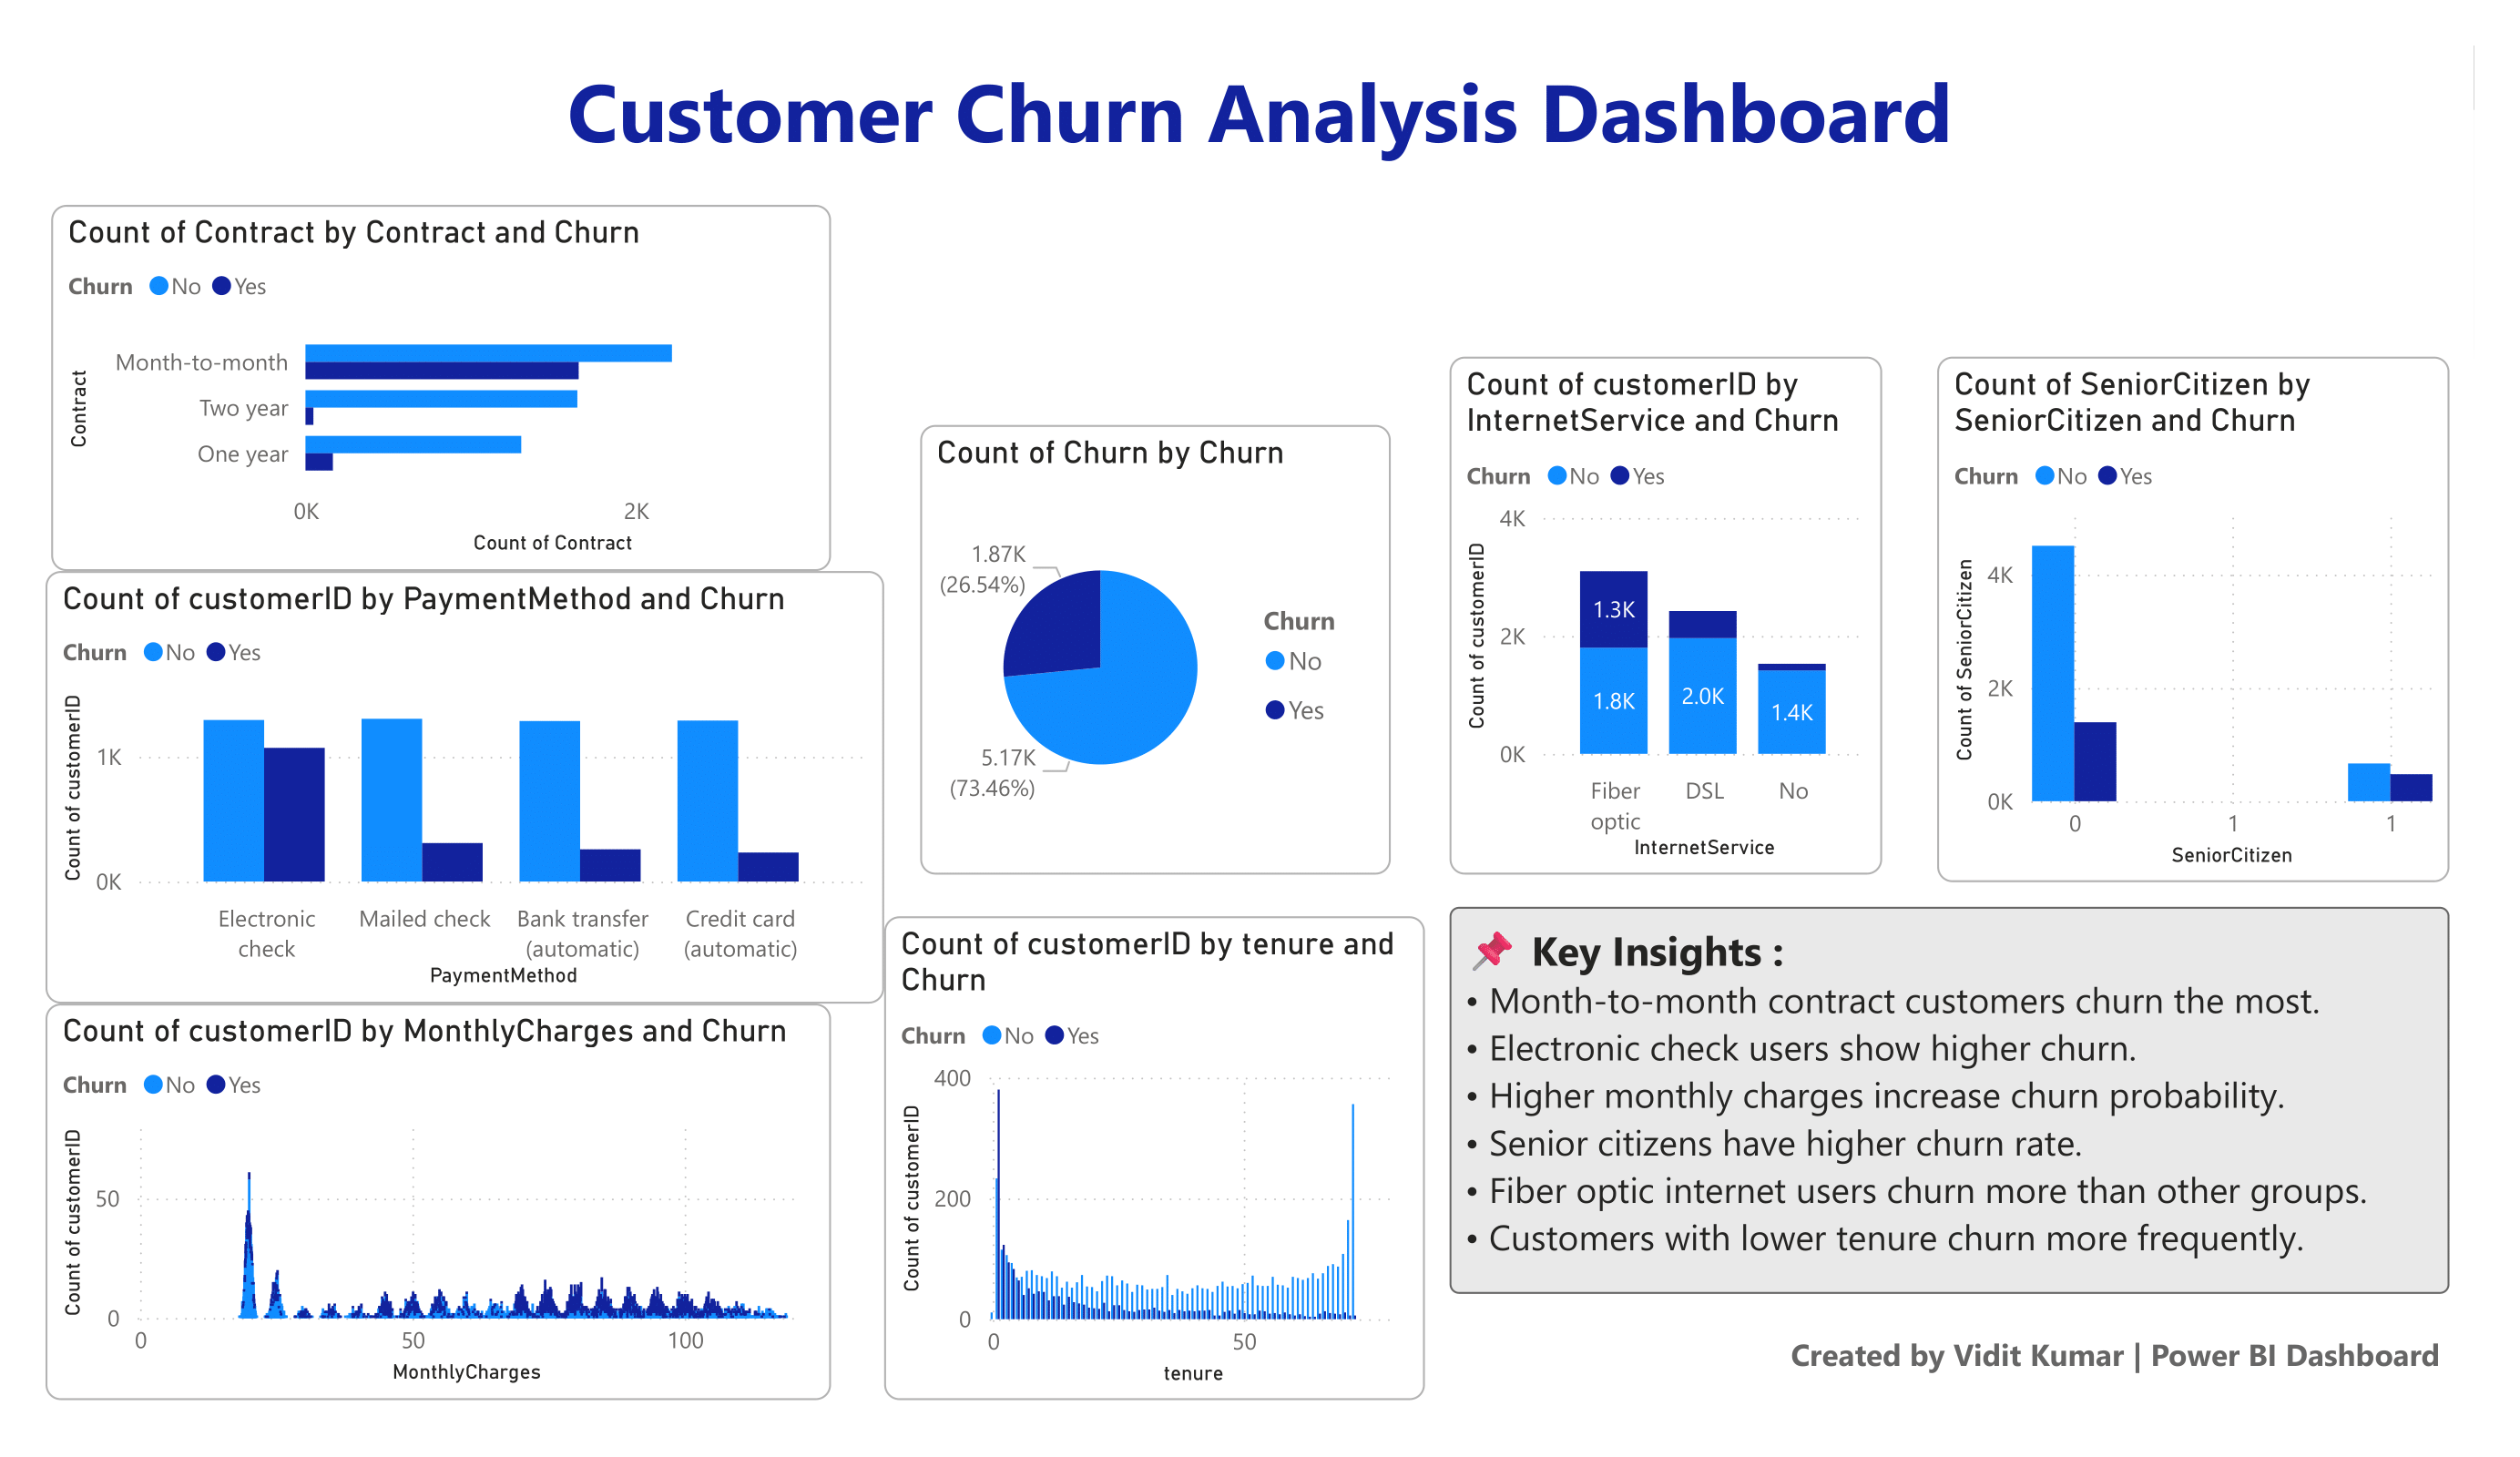

The page's visual inventory and layout, read from the dashboard file:
{"tool":"powerbi","page":{"name":"Page 1","canvas":[1280,720],"ordinal":0},"visuals":[{"type":"pieChart","fields":{"Category":["WA_Fn-UseC_-Telco-Customer-Churn.Churn"],"Y":["CountNonNull(WA_Fn-UseC_-Telco-Customer-Churn.Churn)"]},"box":[460.5,200.4,248.5,236.9],"z":0},{"type":"clusteredBarChart","fields":{"Y":["CountNonNull(WA_Fn-UseC_-Telco-Customer-Churn.Contract)"],"Category":["WA_Fn-UseC_-Telco-Customer-Churn.Contract"],"Series":["WA_Fn-UseC_-Telco-Customer-Churn.Churn"]},"box":[3.3,84.5,410.8,192.2],"z":1000},{"type":"columnChart","fields":{"Category":["WA_Fn-UseC_-Telco-Customer-Churn.MonthlyCharges"],"Y":["CountNonNull(WA_Fn-UseC_-Telco-Customer-Churn.customerID)"],"Series":["WA_Fn-UseC_-Telco-Customer-Churn.Churn"]},"box":[0,505.2,414.1,208.7],"z":2000},{"type":"clusteredColumnChart","fields":{"Category":["WA_Fn-UseC_-Telco-Customer-Churn.SeniorCitizen"],"Y":["CountNonNull(WA_Fn-UseC_-Telco-Customer-Churn.SeniorCitizen)"],"Series":["WA_Fn-UseC_-Telco-Customer-Churn.Churn"]},"box":[997.2,164,270,276.6],"z":3000},{"type":"columnChart","fields":{"Category":["WA_Fn-UseC_-Telco-Customer-Churn.InternetService"],"Y":["CountNonNull(WA_Fn-UseC_-Telco-Customer-Churn.customerID)"],"Series":["WA_Fn-UseC_-Telco-Customer-Churn.Churn"]},"box":[740,164,228,273],"z":4000},{"type":"clusteredColumnChart","fields":{"Category":["WA_Fn-UseC_-Telco-Customer-Churn.tenure"],"Y":["CountNonNull(WA_Fn-UseC_-Telco-Customer-Churn.customerID)"],"Series":["WA_Fn-UseC_-Telco-Customer-Churn.Churn"]},"box":[442.3,458.8,284.9,255.1],"z":4001},{"type":"clusteredColumnChart","fields":{"Category":["WA_Fn-UseC_-Telco-Customer-Churn.PaymentMethod"],"Y":["CountNonNull(WA_Fn-UseC_-Telco-Customer-Churn.customerID)"],"Series":["WA_Fn-UseC_-Telco-Customer-Churn.Churn"]},"box":[0,276.6,442.3,228.6],"z":4002},{"type":"textbox","box":[250.1,0,780.2,69.6],"z":4003},{"type":"textbox","box":[740.4,453.9,526.8,203.7],"z":4004},{"type":"textbox","box":[901.1,674.2,366.1,39.8],"z":4005}]}

Visuals, with their boxes in screenshot pixels (x1, y1, x2, y2):
pieChart - WA_Fn-UseC_-Telco-Customer-Churn.Churn x CountNonNull(WA_Fn-UseC_-Telco-Customer-Churn.Churn): l=919, t=426, r=1391, b=875
clusteredBarChart - CountNonNull(WA_Fn-UseC_-Telco-Customer-Churn.Contract) x WA_Fn-UseC_-Telco-Customer-Churn.Contract: l=52, t=206, r=831, b=570
columnChart - WA_Fn-UseC_-Telco-Customer-Churn.MonthlyCharges x CountNonNull(WA_Fn-UseC_-Telco-Customer-Churn.customerID): l=46, t=1004, r=831, b=1400
clusteredColumnChart - WA_Fn-UseC_-Telco-Customer-Churn.SeniorCitizen x CountNonNull(WA_Fn-UseC_-Telco-Customer-Churn.SeniorCitizen): l=1938, t=357, r=2450, b=881
columnChart - WA_Fn-UseC_-Telco-Customer-Churn.InternetService x CountNonNull(WA_Fn-UseC_-Telco-Customer-Churn.customerID): l=1450, t=357, r=1882, b=874
clusteredColumnChart - WA_Fn-UseC_-Telco-Customer-Churn.tenure x CountNonNull(WA_Fn-UseC_-Telco-Customer-Churn.customerID): l=885, t=916, r=1425, b=1400
clusteredColumnChart - WA_Fn-UseC_-Telco-Customer-Churn.PaymentMethod x CountNonNull(WA_Fn-UseC_-Telco-Customer-Churn.customerID): l=46, t=570, r=885, b=1004
textbox: l=520, t=46, r=2001, b=178
textbox: l=1451, t=907, r=2450, b=1293
textbox: l=1756, t=1325, r=2450, b=1401
